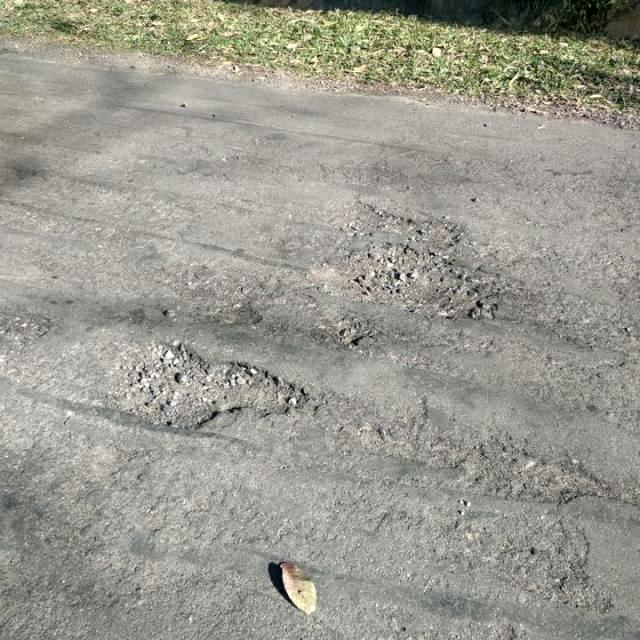Pothole: (108, 335, 312, 428), (315, 242, 516, 316), (331, 198, 468, 245), (329, 316, 373, 351)
